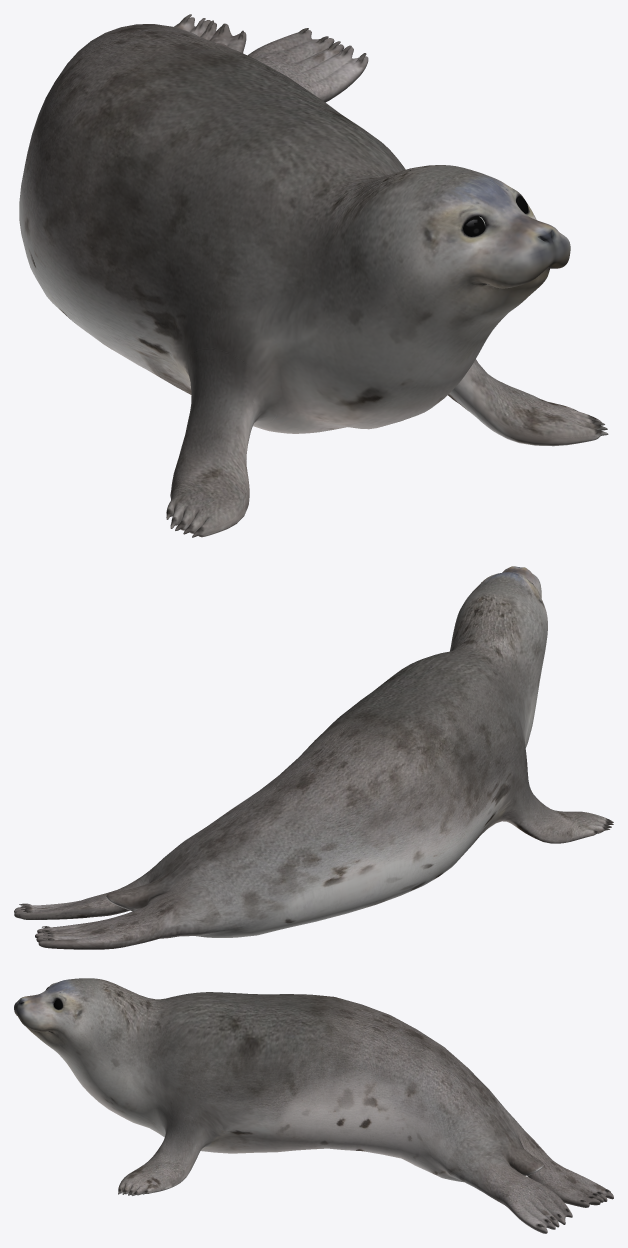
File: seal.obj
3 views of the same model, one above another, from view 1: azimuth 30°, elevation 25°; view 2: azimuth 150°, elevation 25°; view 3: azimuth 270°, elevation 25° (orthographic). The views are drawn at different scales.
Visible parts, largest first — view 1: Object_4; view 2: Object_4; view 3: Object_4.
Boxes of the visible parts, <box> form: Object_4: <box>19,14,608,537</box>; Object_4: <box>14,566,613,949</box>; Object_4: <box>14,978,613,1233</box>.
Bounding box in the file's own units: 15.51 × 8.27 × 26.3.
